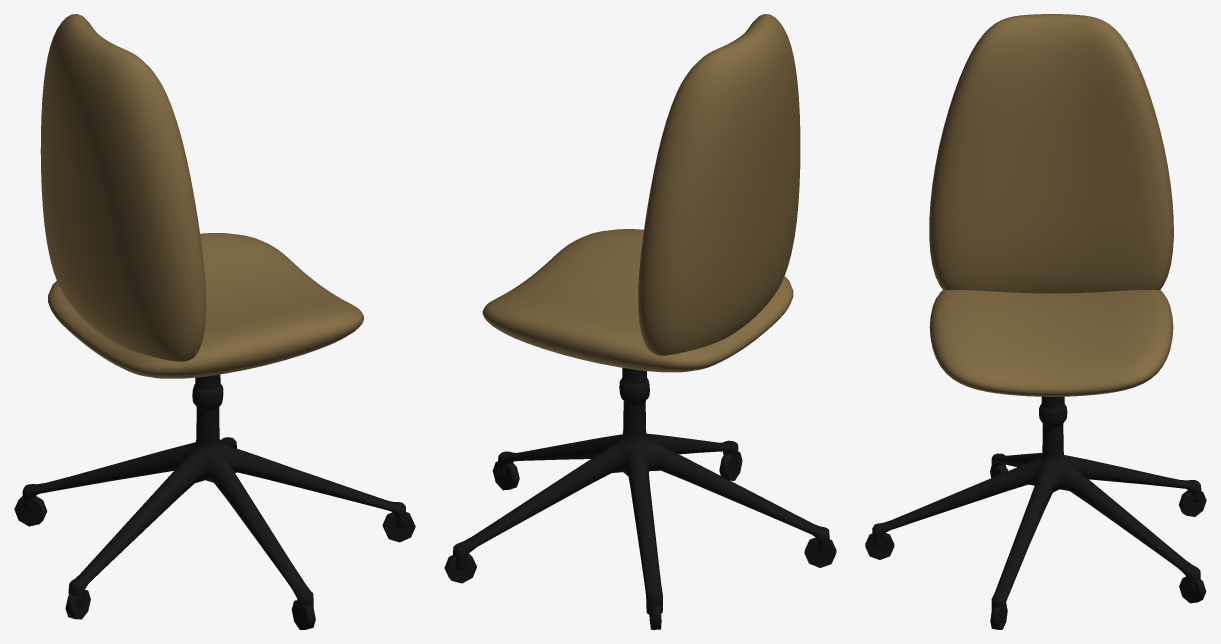
Rendered from office_chair.fbx.
3 renders of one model, left to right at view 1: azimuth 30°, elevation 25°; view 2: azimuth 150°, elevation 25°; view 3: azimuth 270°, elevation 25°, orthographic. The views are drawn at different scales.
Visible parts, largest first — view 1: Cylinder.001; view 2: Cylinder.001; view 3: Cylinder.001.
Part boxes in pixels (x1,y1,x2,y2): Cylinder.001: (14, 14, 415, 629); Cylinder.001: (444, 14, 836, 629); Cylinder.001: (865, 14, 1206, 629).
Size of the model in its own units: 97.84 by 148 by 92.65.
